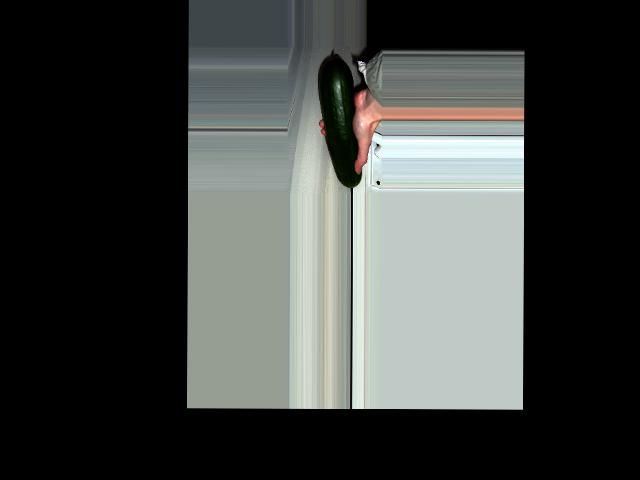cucumber: (317, 54, 362, 187)
